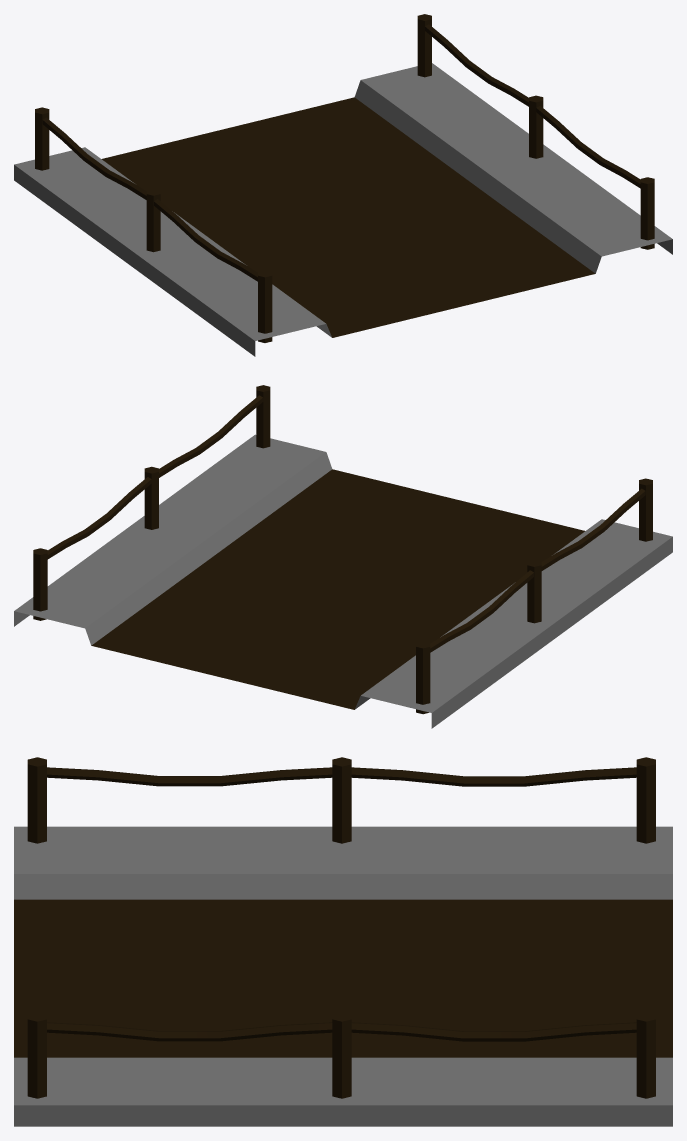
File: bridge_straight_mesh.fbx
The picture shows the model from 3 angles, top to bottom: view 1: azimuth 30°, elevation 25°; view 2: azimuth 150°, elevation 25°; view 3: azimuth 270°, elevation 25°; orthographic projection. The views are drawn at different scales.
Parts seen in each view (by area): view 1: bridge_straight_mesh; view 2: bridge_straight_mesh; view 3: bridge_straight_mesh.
Boxes of the visible parts, bbox=[...] form: bridge_straight_mesh: bbox=[14, 14, 672, 356]; bridge_straight_mesh: bbox=[14, 385, 672, 728]; bridge_straight_mesh: bbox=[14, 757, 672, 1126].
Size of the model in its own units: 1 by 0.1651 by 1.
